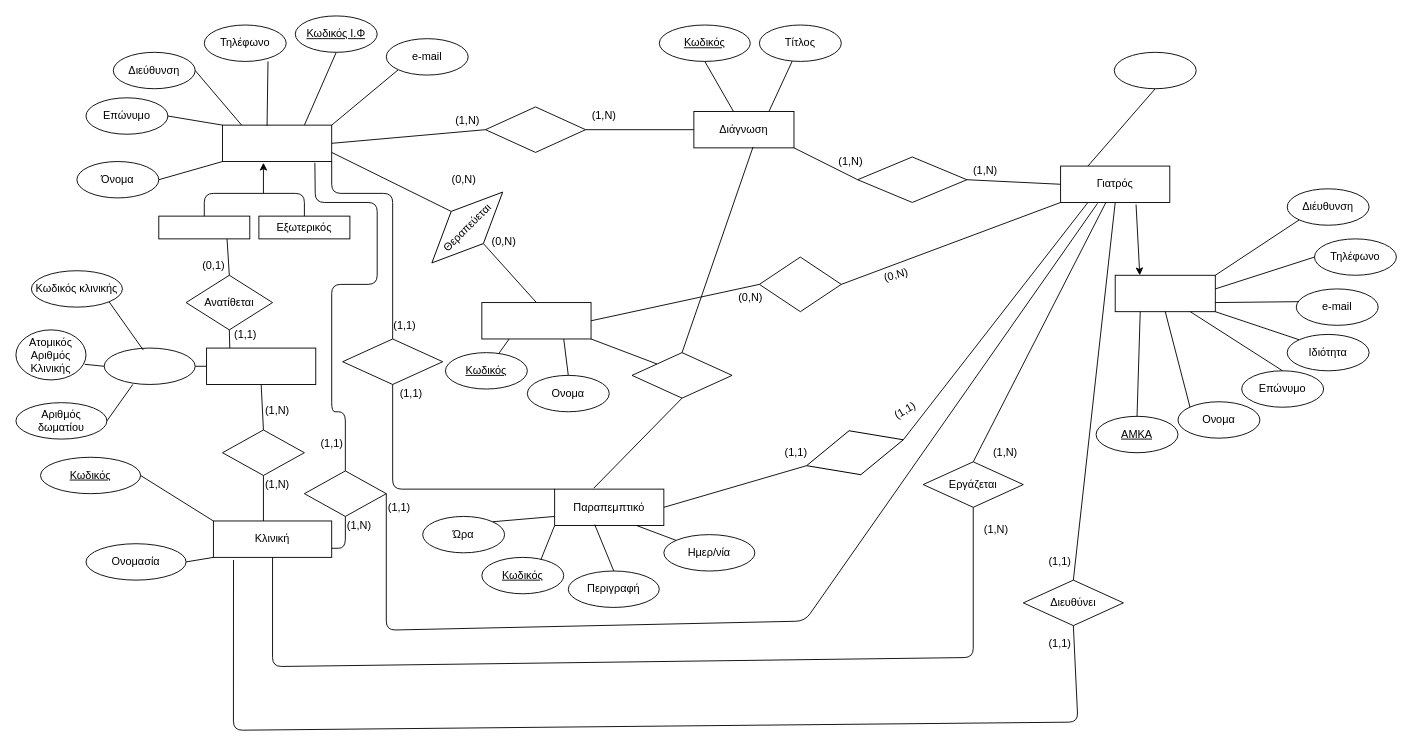
Some shapes in this 1412 by 747 pixel diagram are drawn without their labels. Here are the shapes that lost their labels. From the top down, the centre of each, then its label:
(1154,70): Ειδικόητα
(277,143): Ασθενής
(535,129): Διαγιγνώσκεται
(912,179): Πραγματοποιειται
(204,227): Εσωτερικός
(799,284): Θεραπεύει
(1164,293): Εργαζόμενος
(536,320): Θεραπεία
(149,365): Αριθμός κρεβατιού
(261,365): Κρεβάτι
(392,361): Παραλαμβάνει
(681,375): Προορίζεται
(263,452): Βρίσκεται
(854,452): Υπογράφει
(344,493): Εισάγεται
